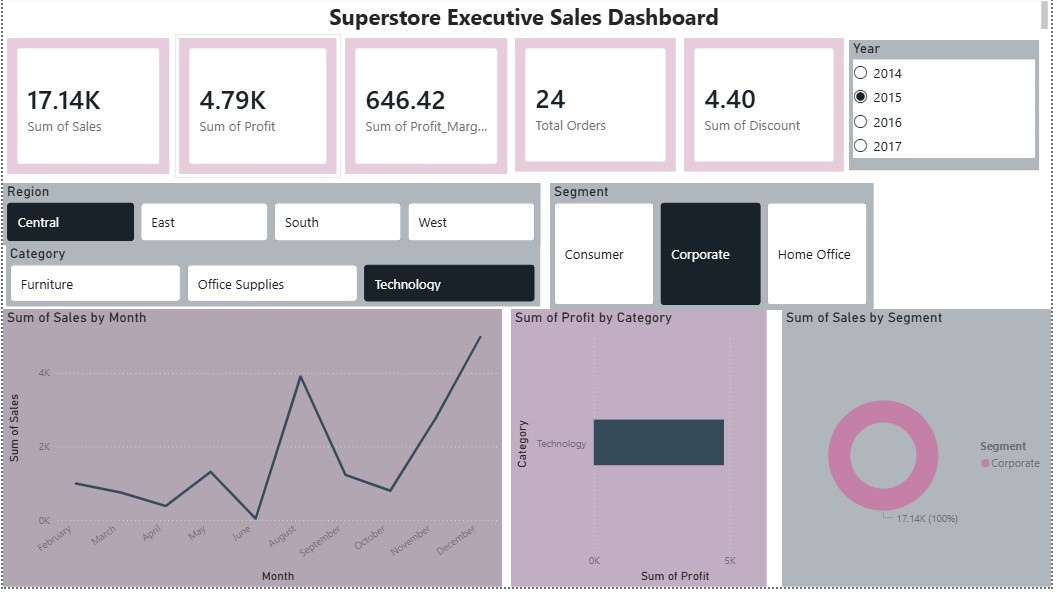

Layout of this report page (visuals, bound fields, positions):
{"tool":"powerbi","page":{"name":"Page 1","canvas":[1280,720],"ordinal":0},"visuals":[{"type":"cardVisual","fields":{"Data":["Sum(superstore_clean.Sales)"]},"box":[0,45.3,208,176],"z":0},{"type":"cardVisual","fields":{"Data":["Sum(superstore_clean.Profit)"]},"box":[209.3,45.3,202.7,176],"z":1000},{"type":"cardVisual","fields":{"Data":["Sum(superstore_clean.Profit_Margin_Pct)"]},"box":[412,45.3,208,176],"z":2000},{"type":"cardVisual","fields":{"Data":["Sum(superstore_clean.Discount)"]},"box":[826.7,45.3,205.3,173.3],"z":3000},{"type":"cardVisual","fields":{"Data":["superstore_clean.Total Orders"]},"box":[620,45.3,206.7,173.3],"z":4000},{"type":"lineChart","fields":{"Category":["superstore_clean.Order Date.Variation.Date Hierarchy.Month"],"Y":["Sum(superstore_clean.Sales)"]},"box":[0,381.3,609.3,338.7],"z":5000},{"type":"clusteredBarChart","fields":{"Category":["superstore_clean.Category"],"Y":["Sum(superstore_clean.Profit)"]},"box":[620,381.3,312,338.7],"z":6000},{"type":"donutChart","fields":{"Category":["superstore_clean.Segment"],"Y":["Sum(superstore_clean.Sales)"]},"box":[950.7,381.3,329.3,338.7],"z":7000},{"type":"listSlicer","fields":{"Values":["superstore_clean.Year"]},"box":[1032,52,232,158.7],"z":8000},{"type":"advancedSlicerVisual","fields":{"Values":["superstore_clean.Region"]},"box":[0,226.7,656,76],"z":9000},{"type":"advancedSlicerVisual","fields":{"Values":["superstore_clean.Category"]},"box":[4,302.7,652,74.7],"z":10000},{"type":"advancedSlicerVisual","fields":{"Values":["superstore_clean.Segment"]},"box":[668,226.7,394.7,154.7],"z":11000},{"type":"textbox","box":[0,0,1280,45.3],"z":11001}]}

Visuals, with their boxes in screenshot pixels (x1, y1, x2, y2), scaled from the page's 1280x720 canvas onto the 1057x595 screenshot:
cardVisual - Sum(superstore_clean.Sales): x1=0, y1=37, x2=172, y2=183
cardVisual - Sum(superstore_clean.Profit): x1=173, y1=37, x2=340, y2=183
cardVisual - Sum(superstore_clean.Profit_Margin_Pct): x1=340, y1=37, x2=512, y2=183
cardVisual - Sum(superstore_clean.Discount): x1=683, y1=37, x2=852, y2=181
cardVisual - superstore_clean.Total Orders: x1=512, y1=37, x2=683, y2=181
lineChart - superstore_clean.Order Date.Variation.Date Hierarchy.Month x Sum(superstore_clean.Sales): x1=0, y1=315, x2=503, y2=594
clusteredBarChart - superstore_clean.Category x Sum(superstore_clean.Profit): x1=512, y1=315, x2=770, y2=594
donutChart - superstore_clean.Segment x Sum(superstore_clean.Sales): x1=785, y1=315, x2=1056, y2=594
listSlicer - superstore_clean.Year: x1=852, y1=43, x2=1044, y2=174
advancedSlicerVisual - superstore_clean.Region: x1=0, y1=187, x2=542, y2=250
advancedSlicerVisual - superstore_clean.Category: x1=3, y1=250, x2=542, y2=312
advancedSlicerVisual - superstore_clean.Segment: x1=552, y1=187, x2=878, y2=315
textbox: x1=0, y1=0, x2=1056, y2=37
